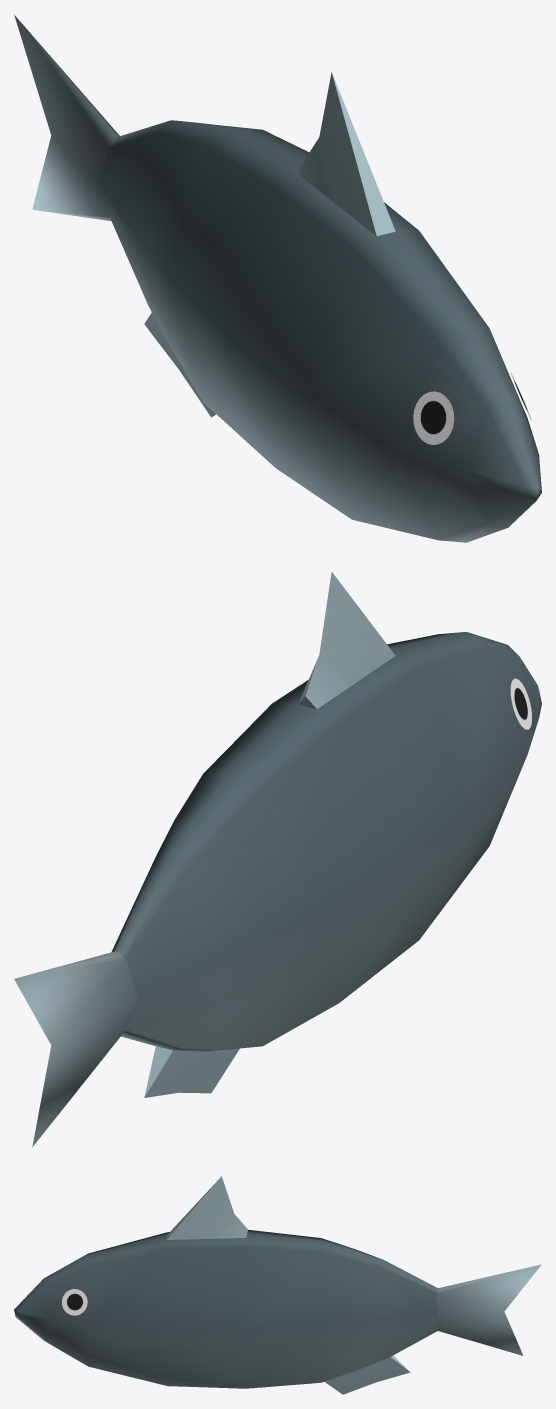
Rendered from sakana.fbx.
3 renders of one model, top to bottom at view 1: azimuth 30°, elevation 25°; view 2: azimuth 150°, elevation 25°; view 3: azimuth 270°, elevation 25°, orthographic. The views are drawn at different scales.
Parts seen in each view (by area): view 1: sakana; view 2: sakana; view 3: sakana.
Part boxes in pixels (<box>): sakana: <box>14,14,541,542</box>; sakana: <box>14,572,541,1146</box>; sakana: <box>14,1176,541,1394</box>.
Size of the model in its own units: 21.28 by 52.43 by 115.
